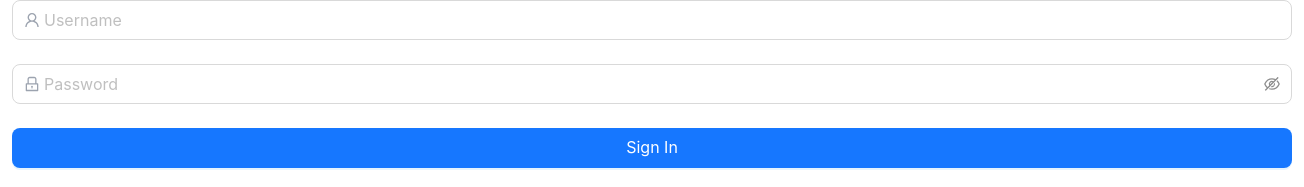
Scenario: LoginForm › shows validation errors for empty form submission
Click the button "Sign In" at (652, 148), box x1=12 y1=128 x2=1292 y2=168
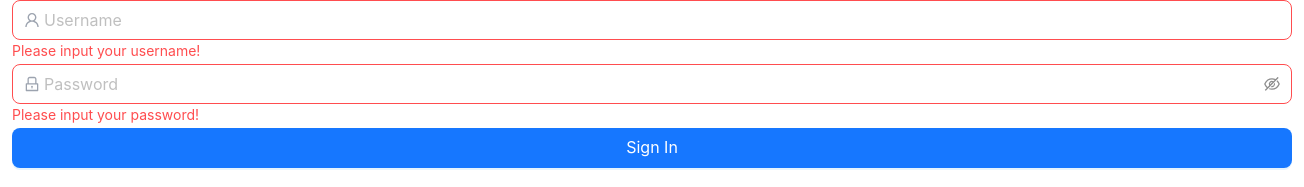
Result: the text "Please input your username!" is shown at x1=12 y1=42 x2=200 y2=59
Result: the text "Please input your password!" is shown at x1=12 y1=106 x2=199 y2=123
